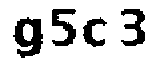3: (114, 5, 151, 55)
5: (47, 5, 78, 52)
c: (82, 16, 111, 52)
g: (8, 17, 45, 60)
